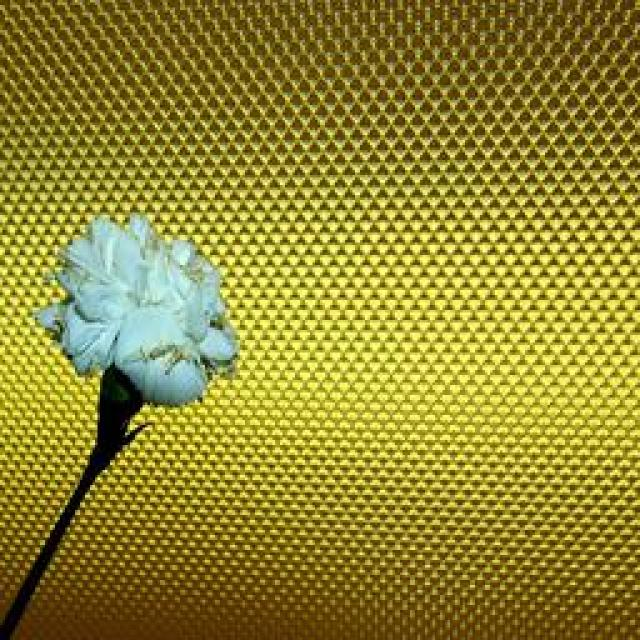carnation: (20, 188, 262, 466)
